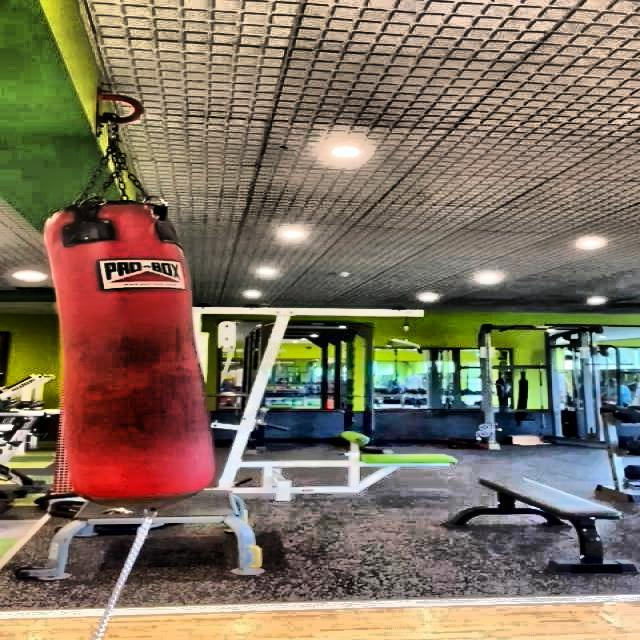boxing-bag: (42, 92, 206, 512)
